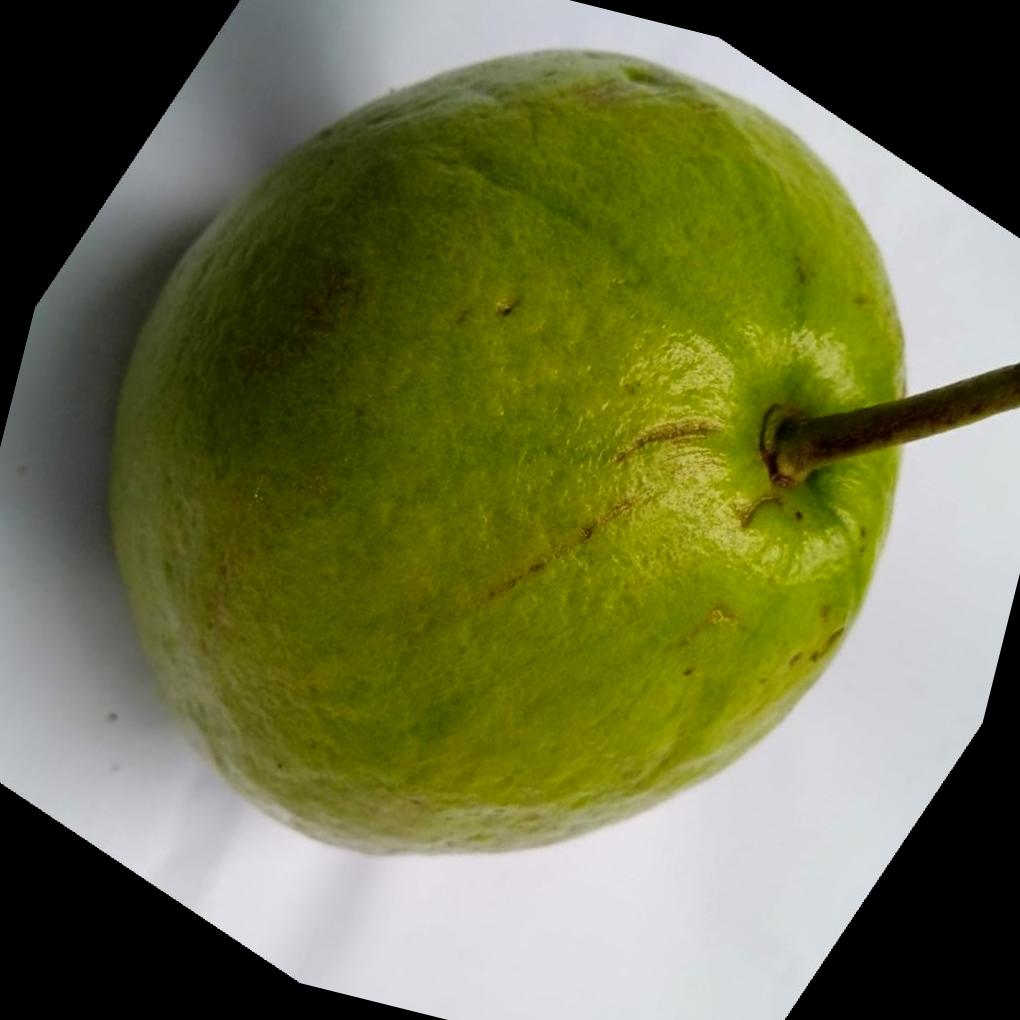FreshGuava: (109, 47, 911, 858)
